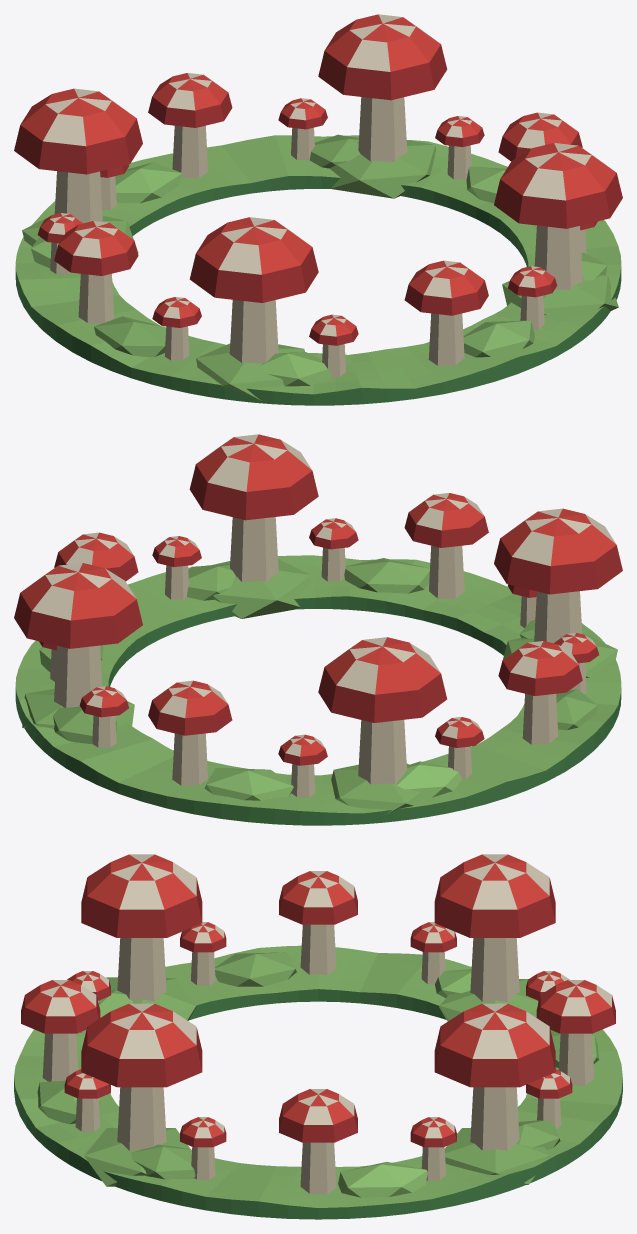
The model's file is habitat_mushroom_ring_overlay.fbx.
3 views of the same model, one above another, from view 1: azimuth 30°, elevation 25°; view 2: azimuth 150°, elevation 25°; view 3: azimuth 270°, elevation 25° (orthographic).
Visible parts, largest first — view 1: habitat_mushroom_ring_overlay; view 2: habitat_mushroom_ring_overlay; view 3: habitat_mushroom_ring_overlay.
Boxes of the visible parts, bbox=[...] form: habitat_mushroom_ring_overlay: bbox=[14, 14, 622, 405]; habitat_mushroom_ring_overlay: bbox=[14, 434, 622, 825]; habitat_mushroom_ring_overlay: bbox=[14, 854, 622, 1219].
Size of the model in its own units: 7.5 by 2.09 by 7.5.
